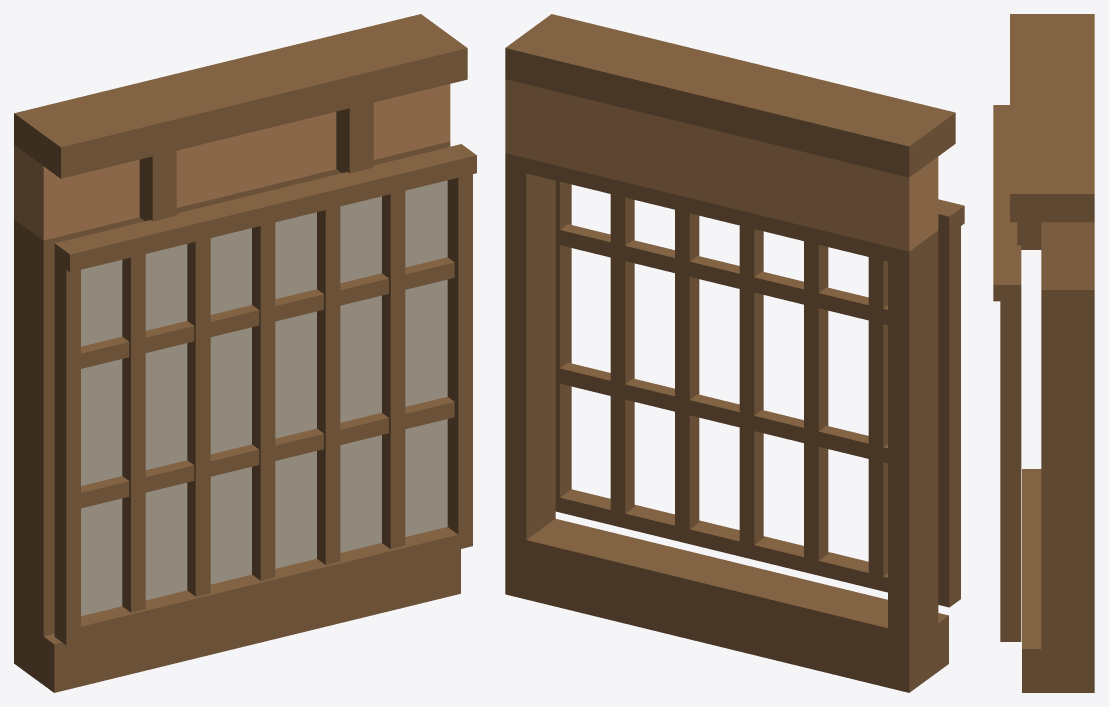
The model's file is wall-door.glb.
The picture shows the model from 3 angles, left to right: view 1: azimuth 30°, elevation 25°; view 2: azimuth 150°, elevation 25°; view 3: azimuth 270°, elevation 25°; orthographic projection. The views are drawn at different scales.
Parts seen in each view (by area): view 1: Door, Wall_Door; view 2: Wall_Door, Door; view 3: Wall_Door, Door.
Part boxes in pixels (x1,y1,x2,y2): Door: [54, 144, 476, 645]; Wall_Door: [14, 14, 467, 692]; Wall_Door: [505, 14, 955, 692]; Door: [555, 180, 964, 607]; Wall_Door: [1010, 14, 1094, 692]; Door: [993, 105, 1021, 641].
Size of the model in its own units: 4 by 5.17 by 0.9506.
